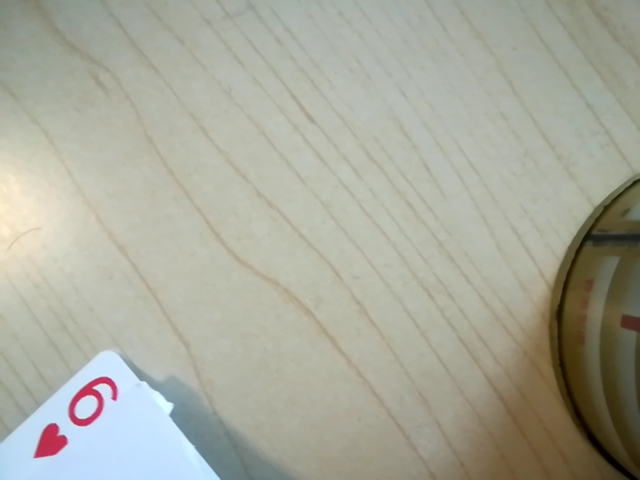hx 6: (30, 370, 127, 461)
